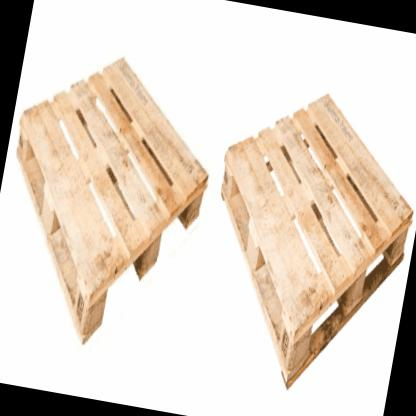BoxFace: (215, 91, 415, 399), (12, 57, 211, 352)
